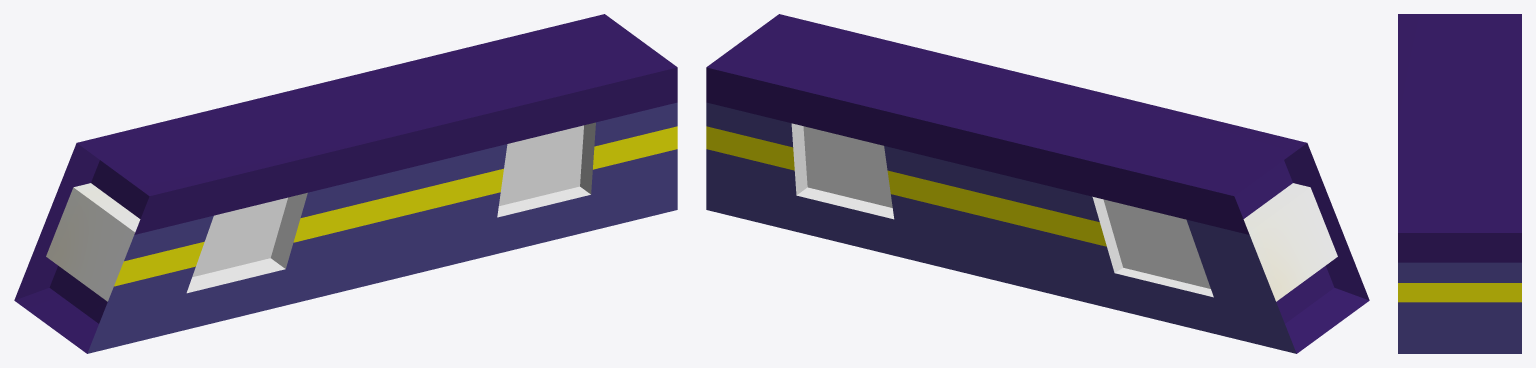
Rendered from TrenCorregido.fbx.
3 renders of one model, left to right at view 1: azimuth 30°, elevation 25°; view 2: azimuth 150°, elevation 25°; view 3: azimuth 270°, elevation 25°, orthographic. The views are drawn at different scales.
Visible parts, largest first — view 1: Tren; view 2: Tren; view 3: Tren.
Part boxes in pixels (x1,y1,x2,y2): Tren: [14, 14, 677, 353]; Tren: [706, 14, 1369, 353]; Tren: [1398, 14, 1521, 353].
Bounding box in the file's own units: 934 × 215 × 200.
1 material, 1 textured.
